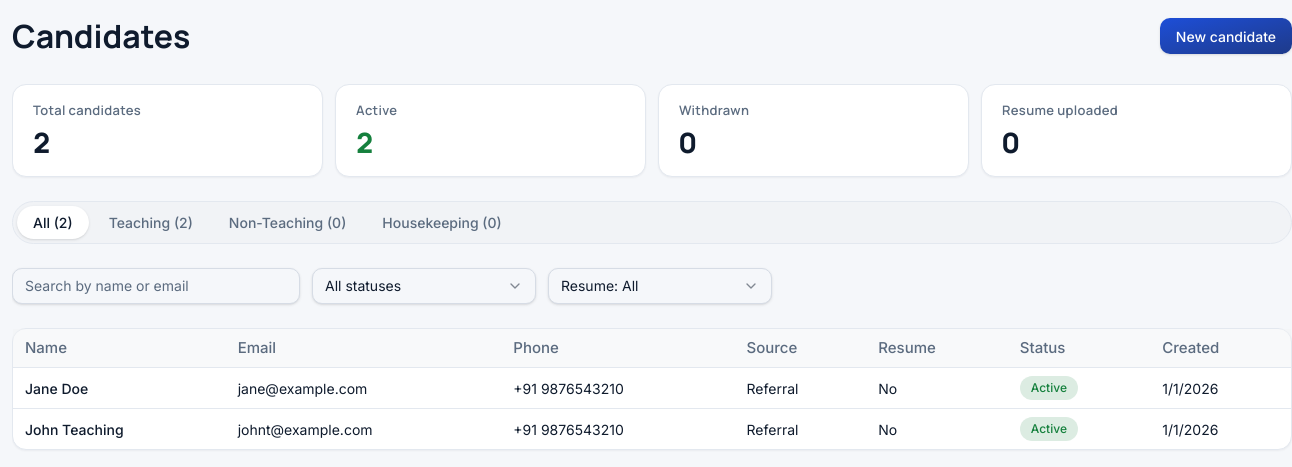
Scenario: CandidatesListPage › combines the category tab with the name search filter (both apply, not just one)
Expected: the link "Jane Doe" is shown, [25, 380, 88, 396]
Click the tab "Teaching (2)" at [151, 222], box [93, 206, 209, 238]
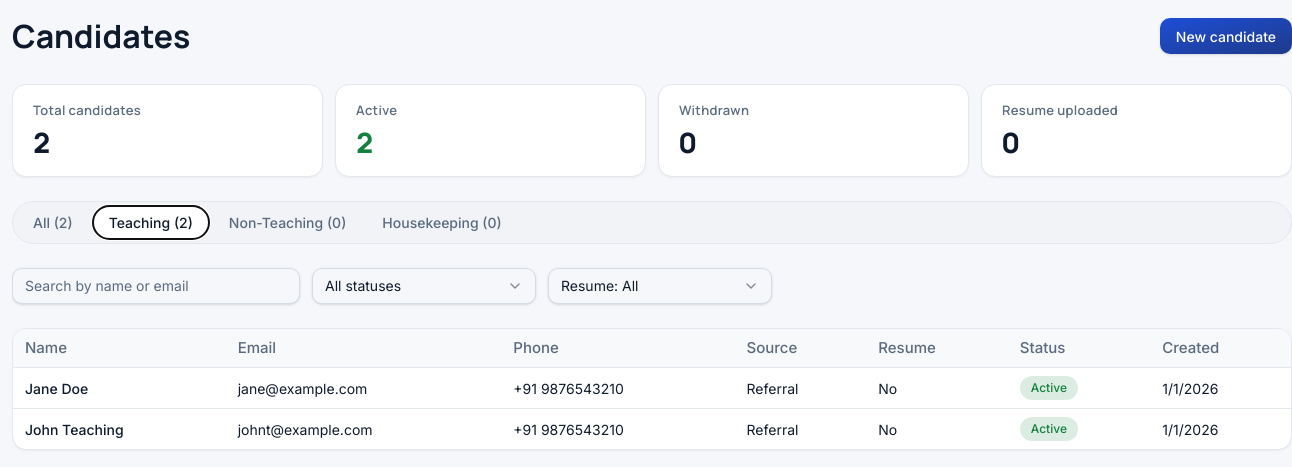
Expected: the link "Jane Doe" is shown, [25, 380, 88, 396]
Expected: the link "John Teaching" is shown, [25, 420, 124, 438]
Type "jane" into the field with placeholder "Search by name or email" at [156, 286], box [12, 268, 300, 304]
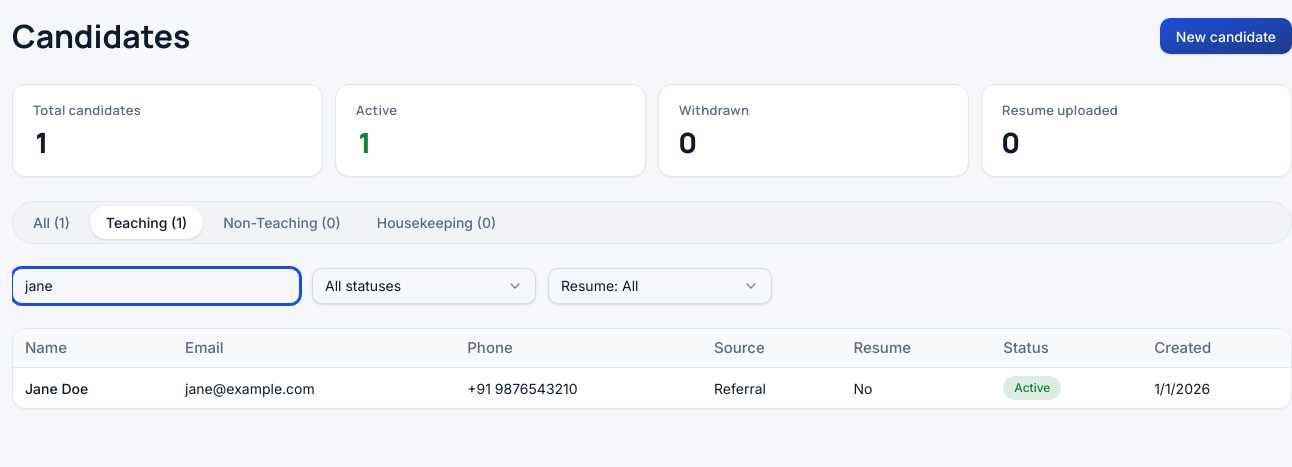
Expected: the link "Jane Doe" is shown, [25, 380, 88, 396]
Expected: the link "John Teaching" is gone
